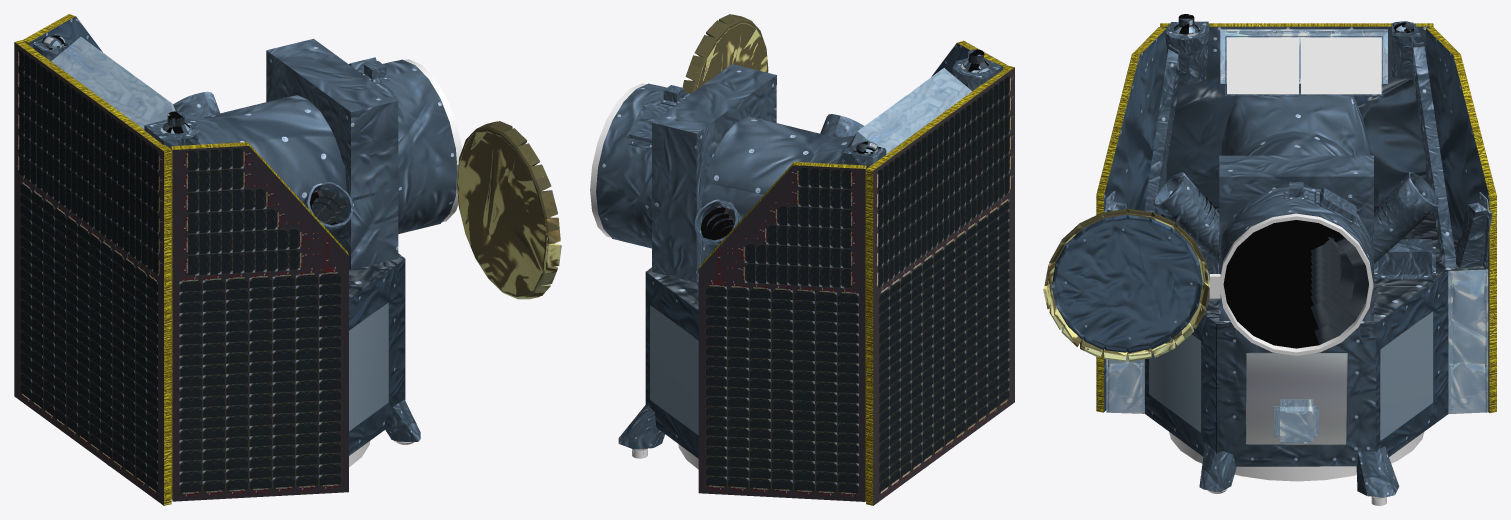
File: Cheops.obj
3 views of the same model, side by side, from view 1: azimuth 30°, elevation 25°; view 2: azimuth 150°, elevation 25°; view 3: azimuth 270°, elevation 25° (orthographic). The views are drawn at different scales.
Parts seen in each view (by area): view 1: CHEOPS_LowPoly_polySurface3_Mesh.016, CHEOPS_LowPoly_polySurface19_polySurface15_Mesh.026, CHEOPS_LowPoly_pCube19_Mesh.017, CHEOPS_LowPoly_group4_pCylinder39_polySurface12_Mesh.030, CHEOPS_LowPoly_pCube32_polySurface22_Mesh.022, CHEOPS_LowPoly_polySurface15_polySurface17_Mesh.027, CHEOPS_LowPoly_pCylinder7_Mesh.018, CHEOPS_LowPoly_pCylinder42_Mesh.007, CHEOPS_LowPoly_pCylinder19_Mesh.002, CHEOPS_LowPoly_polySurface15_polySurface16_Mesh.028; view 2: CHEOPS_LowPoly_polySurface3_Mesh.016, CHEOPS_LowPoly_polySurface19_polySurface15_Mesh.026, CHEOPS_LowPoly_pCube19_Mesh.017, CHEOPS_LowPoly_pCube32_polySurface22_Mesh.022, CHEOPS_LowPoly_polySurface15_polySurface17_Mesh.027, CHEOPS_LowPoly_group4_pCylinder39_polySurface12_Mesh.030, CHEOPS_LowPoly_polySurface15_polySurface16_Mesh.028, CHEOPS_LowPoly_pCylinder7_Mesh.018, CHEOPS_LowPoly_pCylinder19_Mesh.002, CHEOPS_LowPoly_pCylinder35_Mesh.006, CHEOPS_LowPoly_pCylinder45_Mesh.014; view 3: CHEOPS_LowPoly_pCube19_Mesh.017, CHEOPS_LowPoly_polySurface3_Mesh.016, CHEOPS_LowPoly_pCube32_polySurface22_Mesh.022, CHEOPS_LowPoly_polySurface11_group4_pCylinder39_Mesh.029, CHEOPS_LowPoly_pCylinder33_Mesh.004, CHEOPS_LowPoly_pCube31_Mesh.015, CHEOPS_LowPoly_polySurface19_polySurface15_Mesh.026, CHEOPS_LowPoly_pCylinder7_Mesh.018, CHEOPS_LowPoly_group4_pCylinder39_polySurface12_Mesh.030, CHEOPS_LowPoly_polySurface15_polySurface17_Mesh.027, CHEOPS_LowPoly_pCylinder19_Mesh.002, pCylinder1_CHEOPS_LowPoly_Mesh (+2 smaller).
Boxes of the visible parts, x1=… form: CHEOPS_LowPoly_polySurface3_Mesh.016: x1=14, y1=14, x2=348, y2=505; CHEOPS_LowPoly_polySurface19_polySurface15_Mesh.026: x1=266, y1=38, x2=398, y2=269; CHEOPS_LowPoly_pCube19_Mesh.017: x1=51, y1=37, x2=405, y2=455; CHEOPS_LowPoly_group4_pCylinder39_polySurface12_Mesh.030: x1=456, y1=121, x2=561, y2=299; CHEOPS_LowPoly_pCube32_polySurface22_Mesh.022: x1=33, y1=33, x2=353, y2=239; CHEOPS_LowPoly_polySurface15_polySurface17_Mesh.027: x1=352, y1=59, x2=456, y2=233; CHEOPS_LowPoly_pCylinder7_Mesh.018: x1=385, y1=399, x2=420, y2=441; CHEOPS_LowPoly_pCylinder42_Mesh.007: x1=309, y1=190, x2=346, y2=224; CHEOPS_LowPoly_pCylinder19_Mesh.002: x1=404, y1=59, x2=462, y2=222; CHEOPS_LowPoly_polySurface15_polySurface16_Mesh.028: x1=349, y1=57, x2=389, y2=83; CHEOPS_LowPoly_polySurface3_Mesh.016: x1=698, y1=40, x2=1014, y2=505; CHEOPS_LowPoly_polySurface19_polySurface15_Mesh.026: x1=652, y1=64, x2=776, y2=282; CHEOPS_LowPoly_pCube19_Mesh.017: x1=645, y1=68, x2=972, y2=458; CHEOPS_LowPoly_pCube32_polySurface22_Mesh.022: x1=694, y1=58, x2=1002, y2=292; CHEOPS_LowPoly_polySurface15_polySurface17_Mesh.027: x1=596, y1=83, x2=690, y2=248; CHEOPS_LowPoly_group4_pCylinder39_polySurface12_Mesh.030: x1=682, y1=14, x2=768, y2=93; CHEOPS_LowPoly_polySurface15_polySurface16_Mesh.028: x1=627, y1=85, x2=686, y2=149; CHEOPS_LowPoly_pCylinder7_Mesh.018: x1=618, y1=405, x2=665, y2=449; CHEOPS_LowPoly_pCylinder19_Mesh.002: x1=590, y1=83, x2=646, y2=237; CHEOPS_LowPoly_pCylinder35_Mesh.006: x1=701, y1=207, x2=735, y2=240; CHEOPS_LowPoly_pCylinder45_Mesh.014: x1=961, y1=49, x2=990, y2=72; CHEOPS_LowPoly_pCube19_Mesh.017: x1=1106, y1=29, x2=1488, y2=466; CHEOPS_LowPoly_polySurface3_Mesh.016: x1=1096, y1=23, x2=1496, y2=412; CHEOPS_LowPoly_pCube32_polySurface22_Mesh.022: x1=1104, y1=21, x2=1491, y2=279; CHEOPS_LowPoly_polySurface11_group4_pCylinder39_Mesh.029: x1=1051, y1=215, x2=1202, y2=352; CHEOPS_LowPoly_pCylinder33_Mesh.004: x1=1223, y1=220, x2=1368, y2=348; CHEOPS_LowPoly_pCube31_Mesh.015: x1=1227, y1=37, x2=1381, y2=94; CHEOPS_LowPoly_polySurface19_polySurface15_Mesh.026: x1=1219, y1=155, x2=1373, y2=320; CHEOPS_LowPoly_pCylinder7_Mesh.018: x1=1199, y1=399, x2=1399, y2=497; CHEOPS_LowPoly_group4_pCylinder39_polySurface12_Mesh.030: x1=1043, y1=208, x2=1209, y2=361; CHEOPS_LowPoly_polySurface15_polySurface17_Mesh.027: x1=1219, y1=187, x2=1373, y2=283; CHEOPS_LowPoly_pCylinder19_Mesh.002: x1=1219, y1=213, x2=1373, y2=355; pCylinder1_CHEOPS_LowPoly_Mesh: x1=1169, y1=432, x2=1424, y2=481.
Size of the model in its own units: 1301 by 1548 by 1677.
